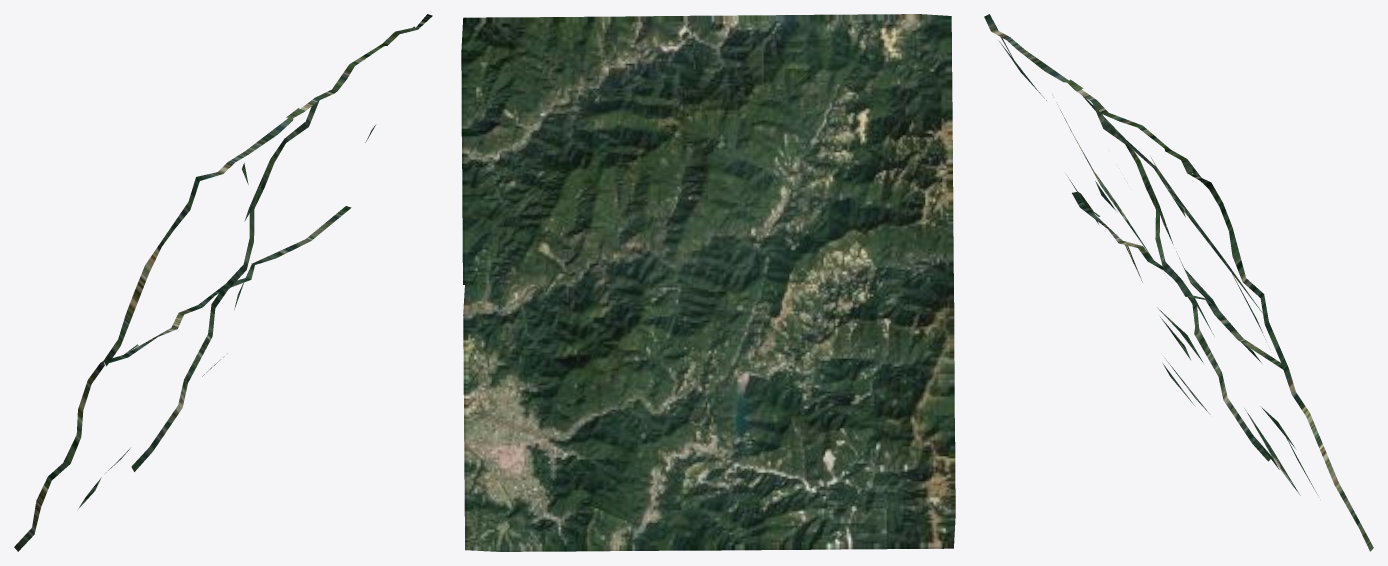
3 renders of one model, left to right at view 1: azimuth 30°, elevation 25°; view 2: azimuth 150°, elevation 25°; view 3: azimuth 270°, elevation 25°, orthographic. The views are drawn at different scales.
Bounding box in the file's own units: 39862 × 36888 × 31334.
Materials: 1 (1 with a texture image).
